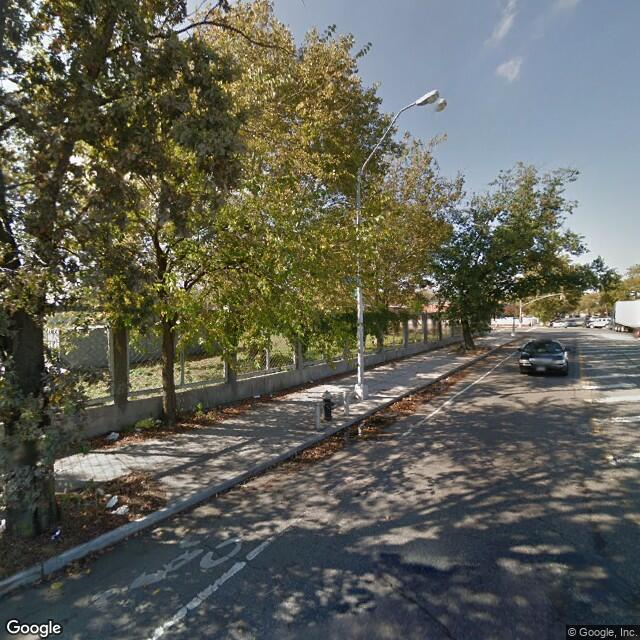litter: (101, 429, 120, 441), (115, 504, 132, 516), (105, 495, 120, 507), (48, 527, 61, 540), (251, 391, 263, 400), (306, 375, 314, 385), (152, 419, 163, 426), (134, 424, 142, 433)
